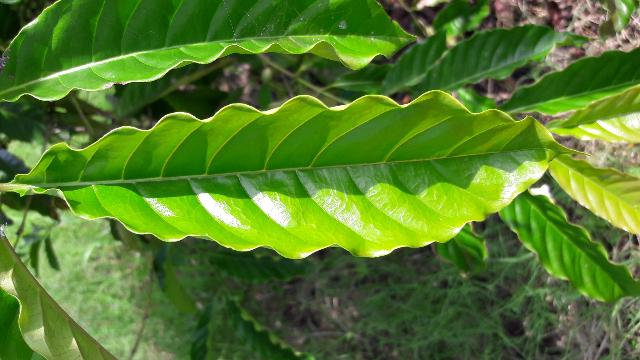healthy: (28, 95, 552, 250)
